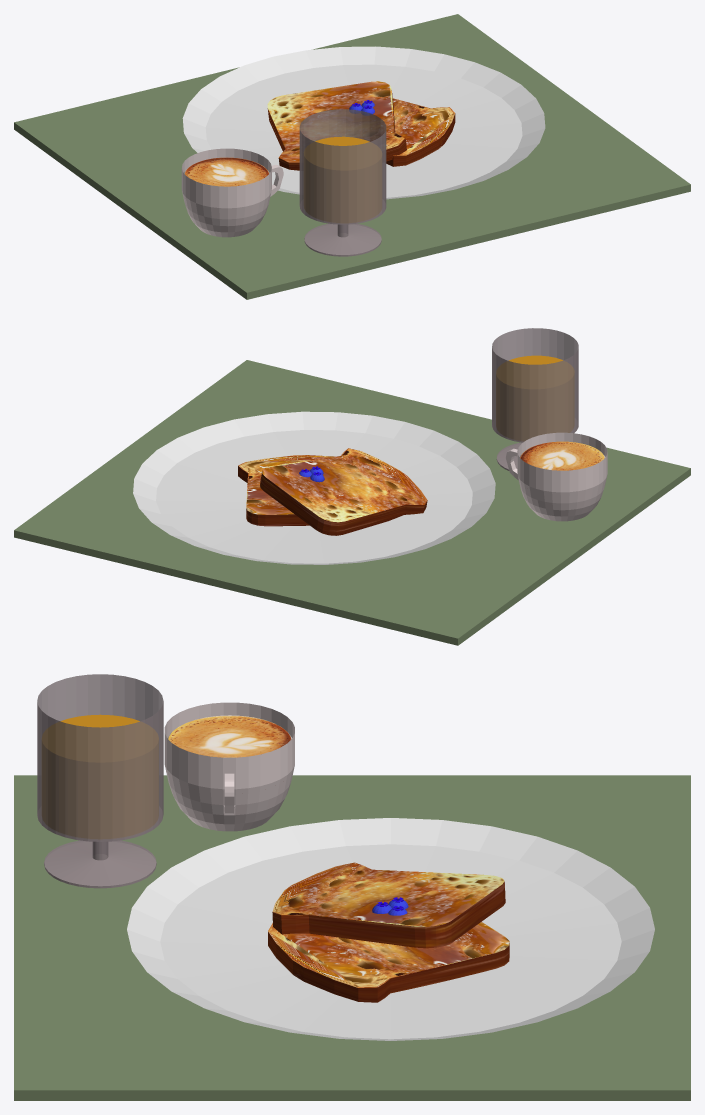
Rendered from menu1Francia.glb.
The picture shows the model from 3 angles, top to bottom: view 1: azimuth 30°, elevation 25°; view 2: azimuth 150°, elevation 25°; view 3: azimuth 270°, elevation 25°; orthographic projection. The views are drawn at different scales.
Visible parts, largest first — view 1: Cube, Cylinder, Cylinder.010, Cube.002, Cylinder.011, Circle, Cube.001, Cylinder.012; view 2: Cube, Cylinder, Cube.002, Cylinder.010, Cylinder.011, Circle, Cube.001, Cylinder.012; view 3: Cube, Cylinder, Cylinder.010, Cube.002, Cylinder.011, Cube.001, Circle, Cylinder.012.
Part boxes in pixels (x1,y1,x2,y2): Cube: [14, 14, 690, 299]; Cylinder: [182, 46, 545, 199]; Cylinder.010: [299, 109, 386, 256]; Cube.002: [267, 81, 406, 170]; Cylinder.011: [304, 136, 381, 222]; Circle: [181, 148, 283, 237]; Cube.001: [386, 98, 455, 166]; Cylinder.012: [184, 157, 269, 186]; Cube: [14, 360, 690, 645]; Cylinder: [133, 411, 495, 564]; Cube.002: [260, 448, 427, 535]; Cylinder.010: [492, 328, 578, 470]; Cylinder.011: [496, 355, 573, 440]; Circle: [506, 432, 607, 521]; Cube.001: [238, 455, 334, 526]; Cylinder.012: [519, 441, 605, 470]; Cube: [14, 775, 690, 1100]; Cylinder: [127, 818, 654, 1040]; Cylinder.010: [37, 674, 163, 888]; Cube.002: [272, 862, 505, 948]; Cylinder.011: [42, 714, 158, 838]; Cube.001: [268, 922, 509, 1002]; Circle: [164, 702, 294, 831]; Cylinder.012: [167, 715, 292, 757].
Bounding box in the file's own units: 22.67 × 5.85 × 20.59.
20 materials, 6 textured.
